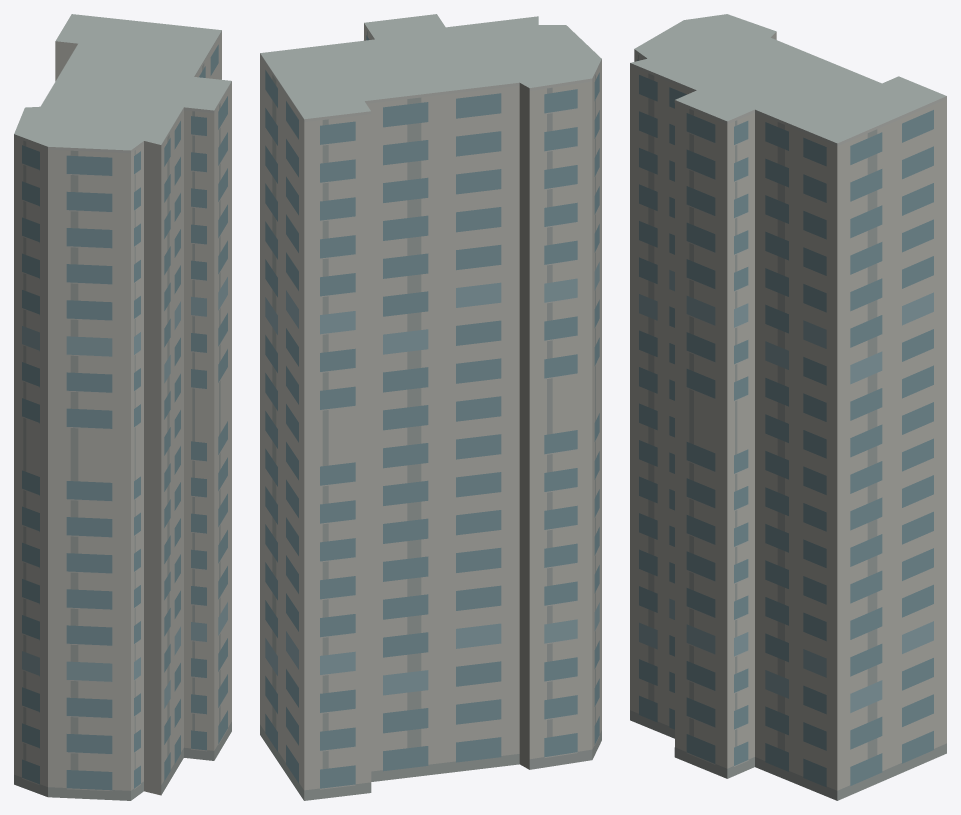
The model's file is residential-9f7b4698-cea8-458f-a4b1-39645af330a0.glb.
3 renders of one model, left to right at view 1: azimuth 30°, elevation 25°; view 2: azimuth 150°, elevation 25°; view 3: azimuth 270°, elevation 25°, orthographic. The views are drawn at different scales.
Parts seen in each view (by area): view 1: residential-9f7b4698-cea8-458f-a4b1-39645af330a0.tmp; view 2: residential-9f7b4698-cea8-458f-a4b1-39645af330a0.tmp; view 3: residential-9f7b4698-cea8-458f-a4b1-39645af330a0.tmp.
Part boxes in pixels (x1=…): residential-9f7b4698-cea8-458f-a4b1-39645af330a0.tmp: x1=14, y1=14, x2=231, y2=800; residential-9f7b4698-cea8-458f-a4b1-39645af330a0.tmp: x1=260, y1=14, x2=601, y2=800; residential-9f7b4698-cea8-458f-a4b1-39645af330a0.tmp: x1=630, y1=14, x2=946, y2=800.
Size of the model in its own units: 23.2 by 54.9 by 23.98.
